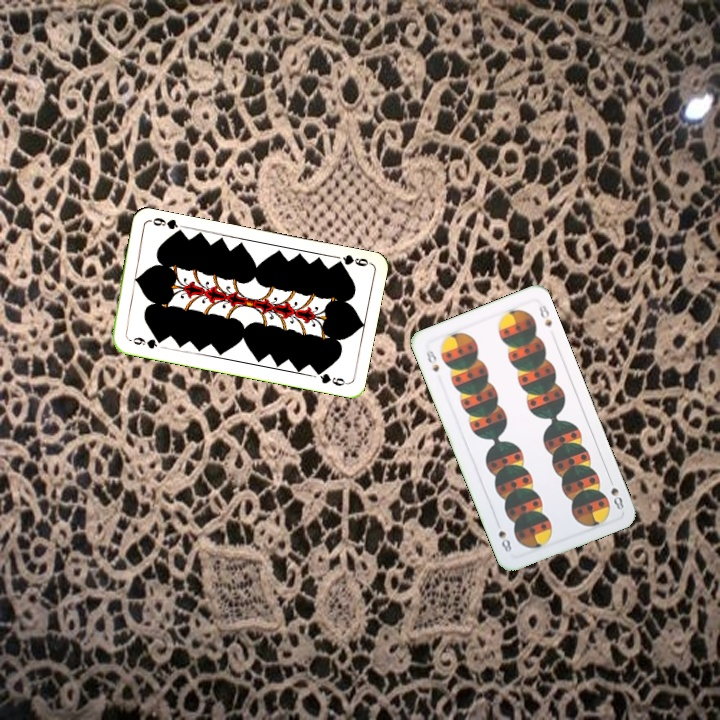G9: (331, 250, 373, 269), (124, 333, 165, 351)
S8: (604, 473, 626, 513), (422, 346, 442, 375)
